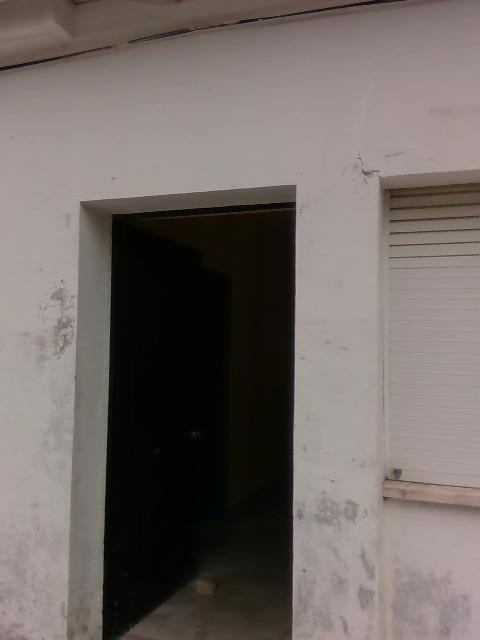open_door: (66, 183, 296, 638)
